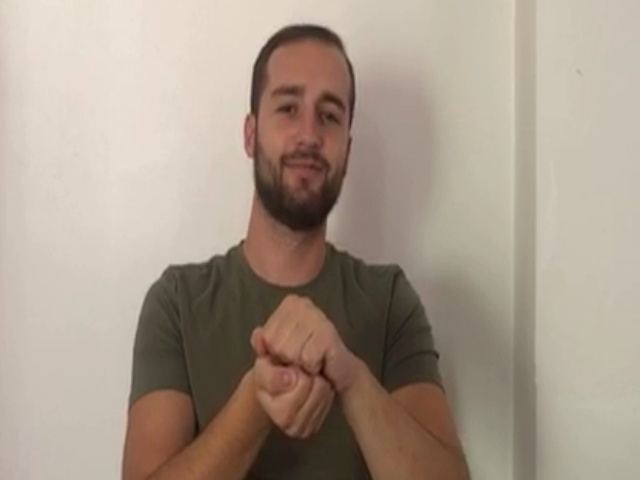Istorija: (237, 290, 359, 443)
